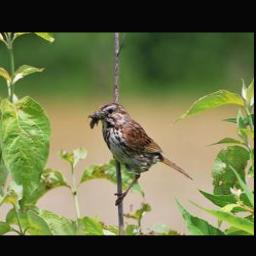Sparrow: (89, 102, 194, 205)
